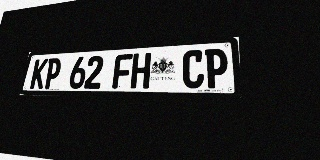2: (84, 55, 104, 89)
6: (68, 56, 88, 89)
C: (182, 50, 204, 88)
F: (112, 54, 133, 89)
H: (130, 53, 151, 88)
K: (29, 59, 49, 89)
P: (205, 48, 228, 88), (43, 58, 62, 89)
